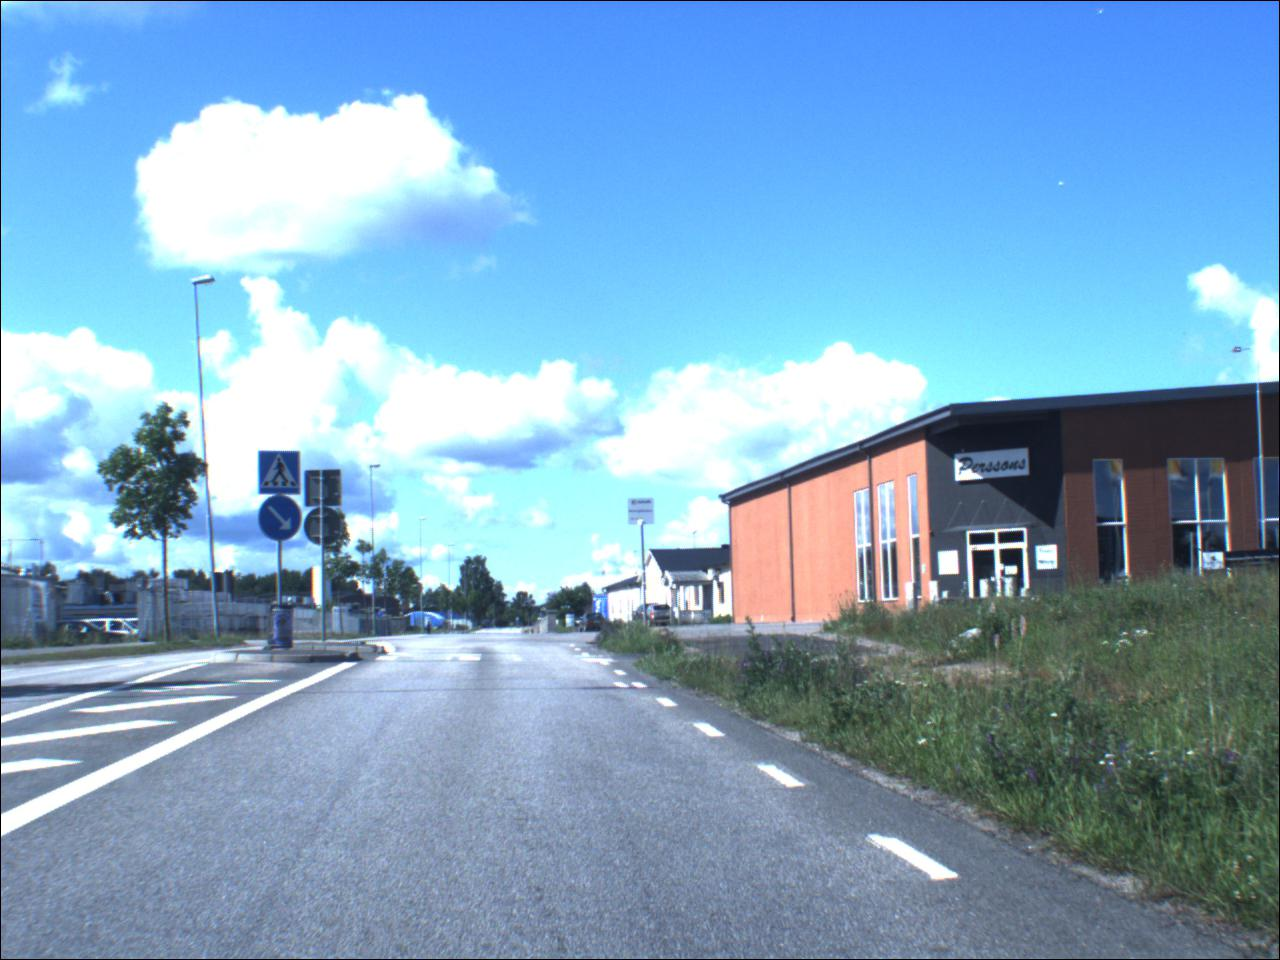PASS_RIGHT_SIDE: (260, 497, 303, 543)
PEDESTRIAN_CROSSING: (260, 453, 302, 497)
